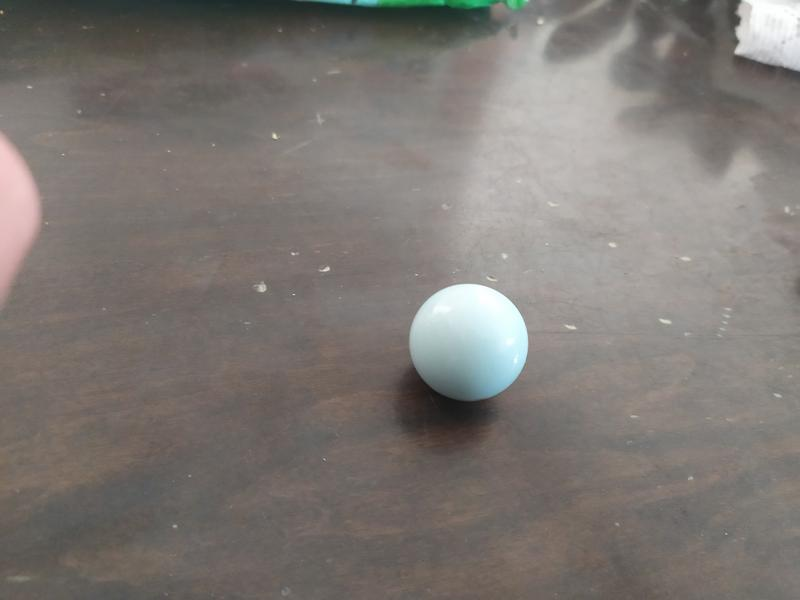Warning: (405, 280, 532, 406)
